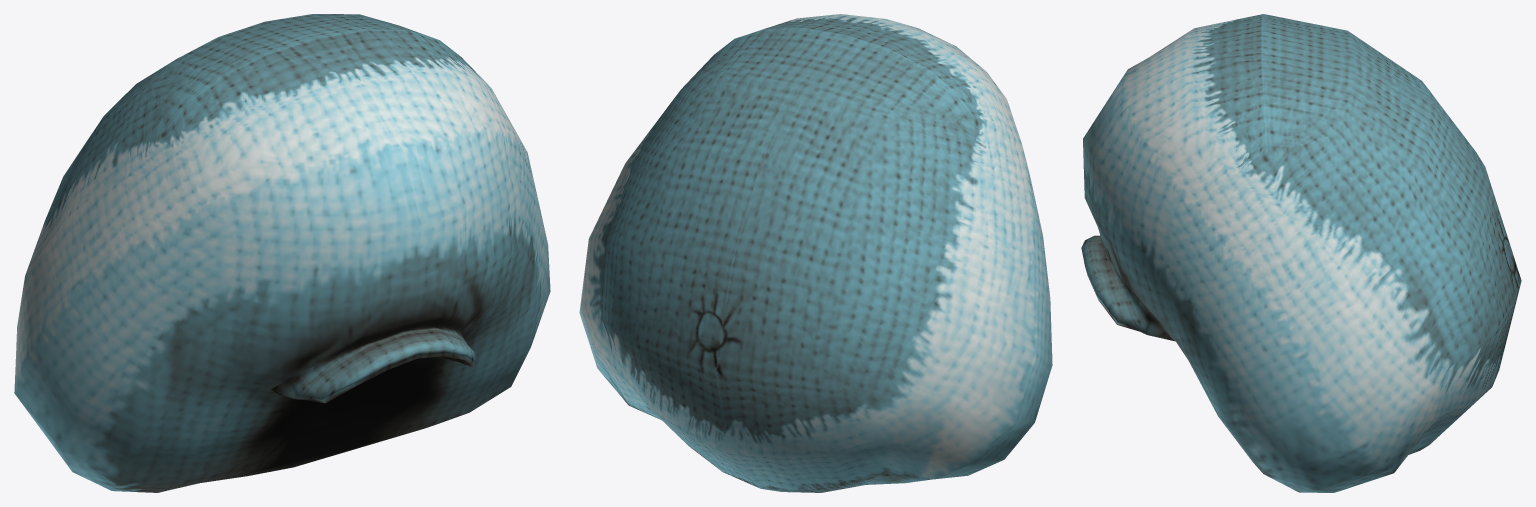
The model's file is Hat.fbx.
3 views of the same model, side by side, from view 1: azimuth 30°, elevation 25°; view 2: azimuth 150°, elevation 25°; view 3: azimuth 270°, elevation 25° (orthographic). The views are drawn at different scales.
Visible parts, largest first — view 1: Hat; view 2: Hat; view 3: Hat.
Part boxes in pixels (box(x1,y1,x2,y2)): Hat: box(14, 14, 550, 492); Hat: box(579, 14, 1052, 492); Hat: box(1081, 14, 1521, 492).
Size of the model in its own units: 76.32 by 68.33 by 66.23.
